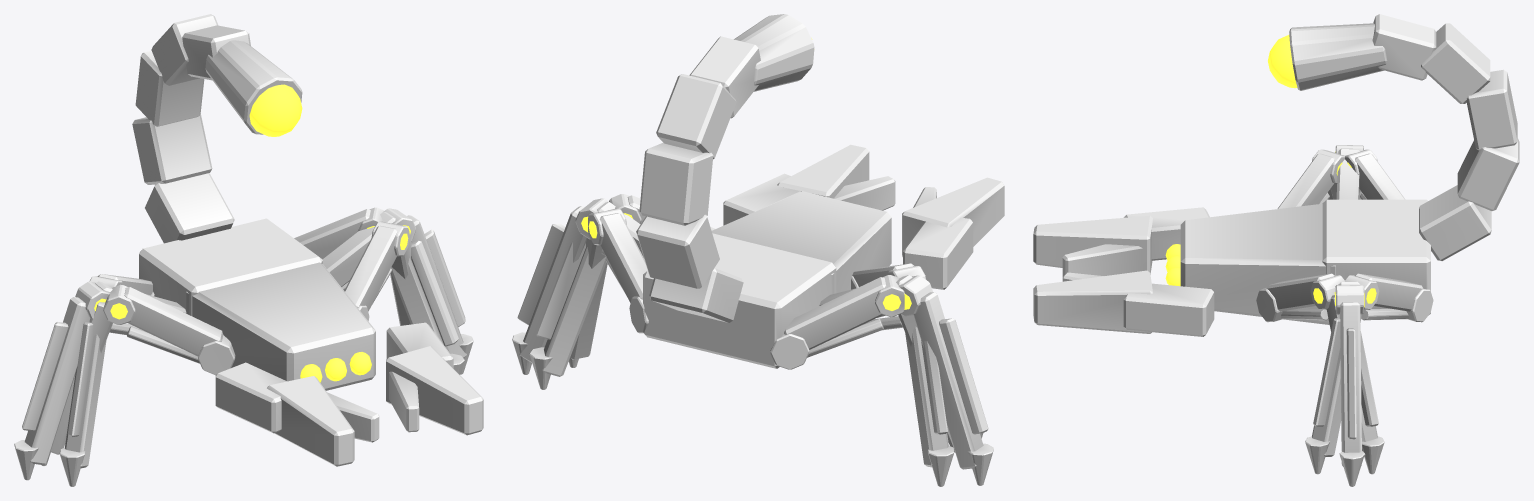
The model's file is e4_dune_scorpion.glb.
The picture shows the model from 3 angles, left to right: view 1: azimuth 30°, elevation 25°; view 2: azimuth 150°, elevation 25°; view 3: azimuth 270°, elevation 25°; orthographic projection. The views are drawn at different scales.
Parts seen in each view (by area): view 1: ScorpHead, ScorpMid, PincerOuter_L, PincerOuter_R, TailSeg_0, TailSeg_1, StingerBarrel, Leg_L2_Tibia, PincerArm_L, TailSeg_2, Leg_L1_Femur, Leg_R1_Femur (+23 smaller); view 2: ScorpMid, ScorpHead, TailSeg_2, TailSeg_3, TailSeg_1, StingerBarrel, PincerOuter_L, Leg_L2_Tibia, PincerArm_L, Leg_L3_Femur, TailSeg_0, Leg_R1_Tibia (+20 smaller); view 3: ScorpHead, ScorpMid, PincerOuter_R, StingerBarrel, PincerOuter_L, PincerArm_R, TailSeg_0, TailSeg_3, TailSeg_1, TailSeg_2, TailSeg_4, Leg_R2_Tibia (+20 smaller).
Boxes of the visible parts, box(x1,y1,x2,y2) form: ScorpHead: box(186, 262, 375, 390); ScorpMid: box(139, 218, 322, 315); PincerOuter_L: box(267, 376, 354, 466); PincerOuter_R: box(386, 346, 483, 435); TailSeg_0: box(145, 173, 234, 243); TailSeg_1: box(132, 113, 212, 184); StingerBarrel: box(205, 40, 302, 134); Leg_L2_Tibia: box(24, 297, 90, 465); PincerArm_L: box(215, 362, 286, 433); TailSeg_2: box(135, 51, 204, 126); Leg_L1_Femur: box(124, 287, 223, 356); Leg_R1_Femur: box(344, 225, 397, 311); ScorpMid: box(643, 233, 836, 368); ScorpHead: box(711, 191, 891, 294); TailSeg_2: box(639, 142, 713, 225); TailSeg_3: box(656, 74, 736, 159); TailSeg_1: box(636, 214, 719, 288); StingerBarrel: box(734, 14, 814, 91); PincerOuter_L: box(902, 177, 1004, 256); Leg_L2_Tibia: box(913, 292, 983, 469); PincerArm_L: box(903, 217, 973, 289); Leg_L3_Femur: box(784, 277, 886, 349); TailSeg_0: box(649, 268, 743, 322); Leg_R1_Tibia: box(542, 246, 606, 376); ScorpHead: box(1180, 203, 1335, 324); ScorpMid: box(1322, 199, 1430, 314); PincerOuter_R: box(1033, 270, 1152, 333); StingerBarrel: box(1289, 23, 1387, 90); PincerOuter_L: box(1033, 215, 1152, 274); PincerArm_R: box(1123, 283, 1214, 336); TailSeg_0: box(1419, 185, 1491, 260); TailSeg_3: box(1421, 23, 1490, 103); TailSeg_1: box(1457, 138, 1519, 210); TailSeg_2: box(1466, 69, 1517, 150); TailSeg_4: box(1372, 14, 1436, 80); Leg_R2_Tibia: box(1340, 302, 1361, 466).
Bounding box in the file's own units: 2.9 × 2.31 × 2.8.
